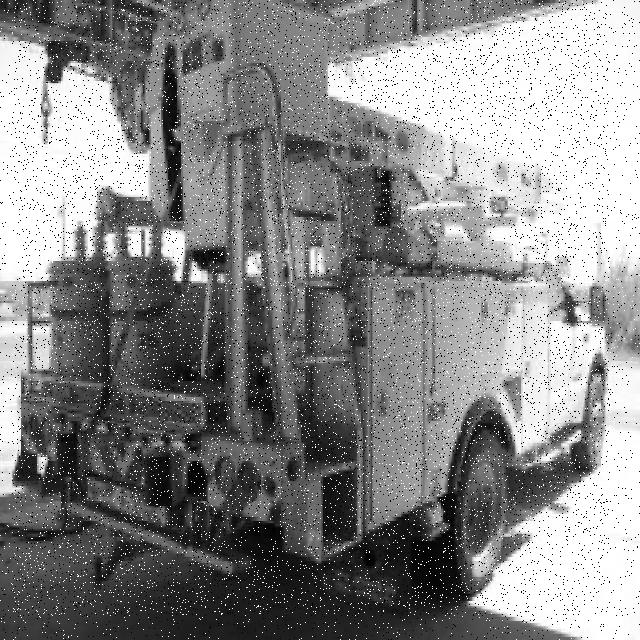Pickup- Utility: (12, 0, 610, 616)
